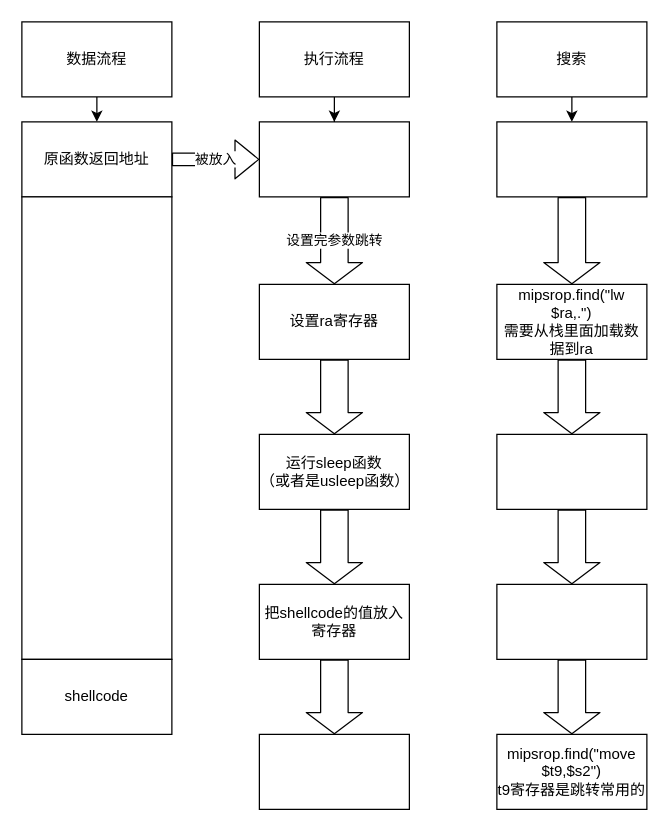
The diagram is 669 pixels wide and 831 high, and some of its shapes have lost their labels. Here are the shapes that lost their labels. From the top down, the box of each, then its label:
(258, 121, 409, 197): 跳转到设置sleep参数
(496, 121, 647, 197): mipsrop.("li $a0,.") 参数需要立即数
(21, 196, 172, 659): 右侧运行需要的数据
(496, 583, 647, 659): mipsrop.stackfinder() 寻找从栈加载到寄存器数据的rop
(258, 733, 409, 809): 跳转到shellcode
